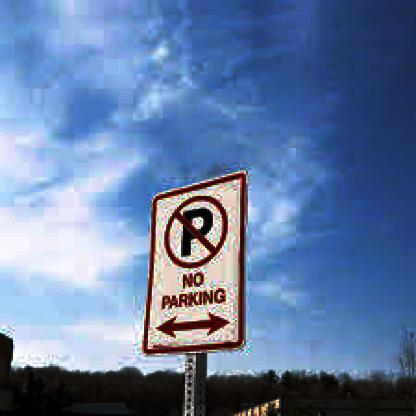No parking: (147, 194, 239, 266)
